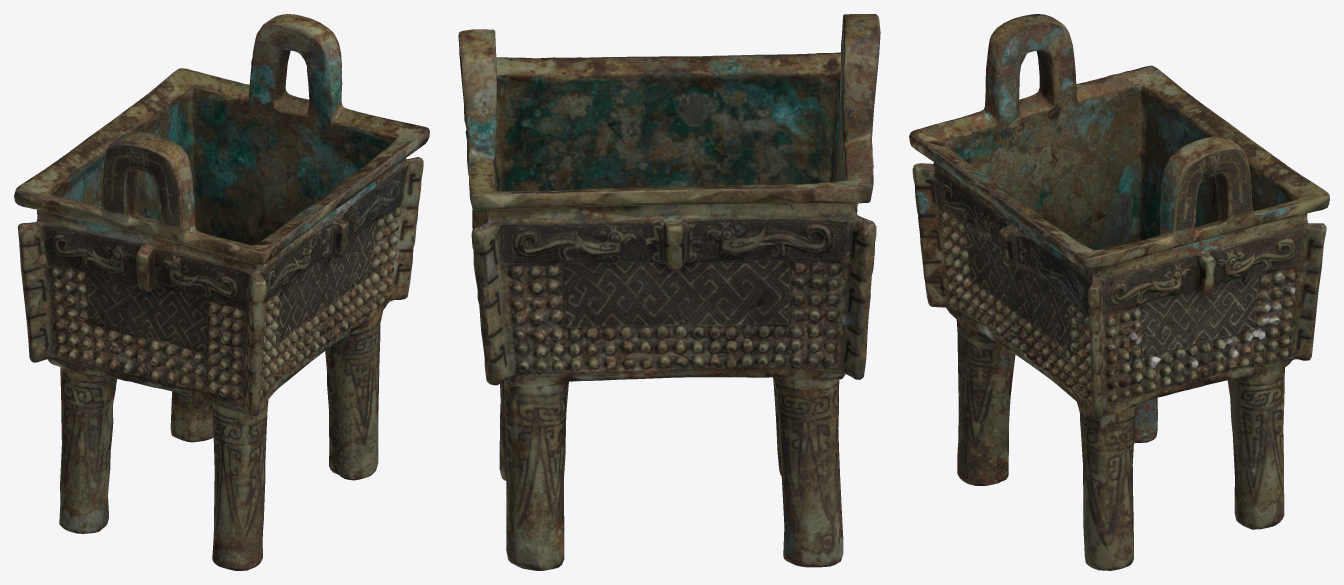
File: low-poly_fangding_food_vessel.glb
3 renders of one model, left to right at view 1: azimuth 30°, elevation 25°; view 2: azimuth 150°, elevation 25°; view 3: azimuth 270°, elevation 25°, orthographic. The views are drawn at different scales.
Parts seen in each view (by area): view 1: Object_2; view 2: Object_2; view 3: Object_2.
Boxes of the visible parts, left/top/right/bottom form: Object_2: left=14, top=14, right=429, bottom=570; Object_2: left=458, top=14, right=880, bottom=570; Object_2: left=909, top=14, right=1329, bottom=570.
Bounding box in the file's own units: 0.1343 × 0.1421 × 0.1277.
1 material, 1 textured.
